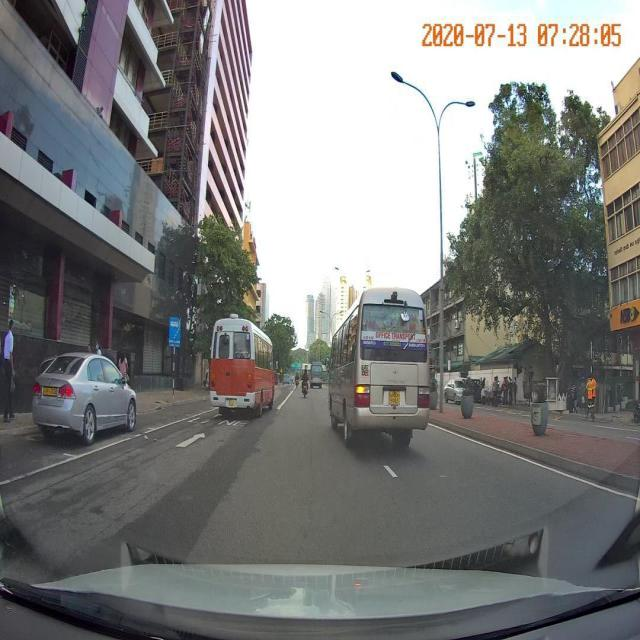Liniya 1: (428, 421, 640, 503), (0, 408, 219, 486), (276, 390, 296, 410), (382, 465, 399, 478)
Strelka vpered: (174, 430, 207, 449)
